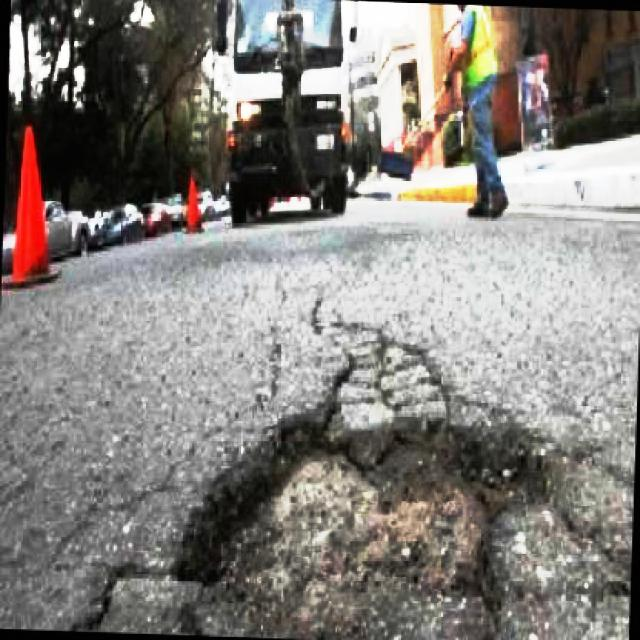pothole: (170, 400, 578, 640)
